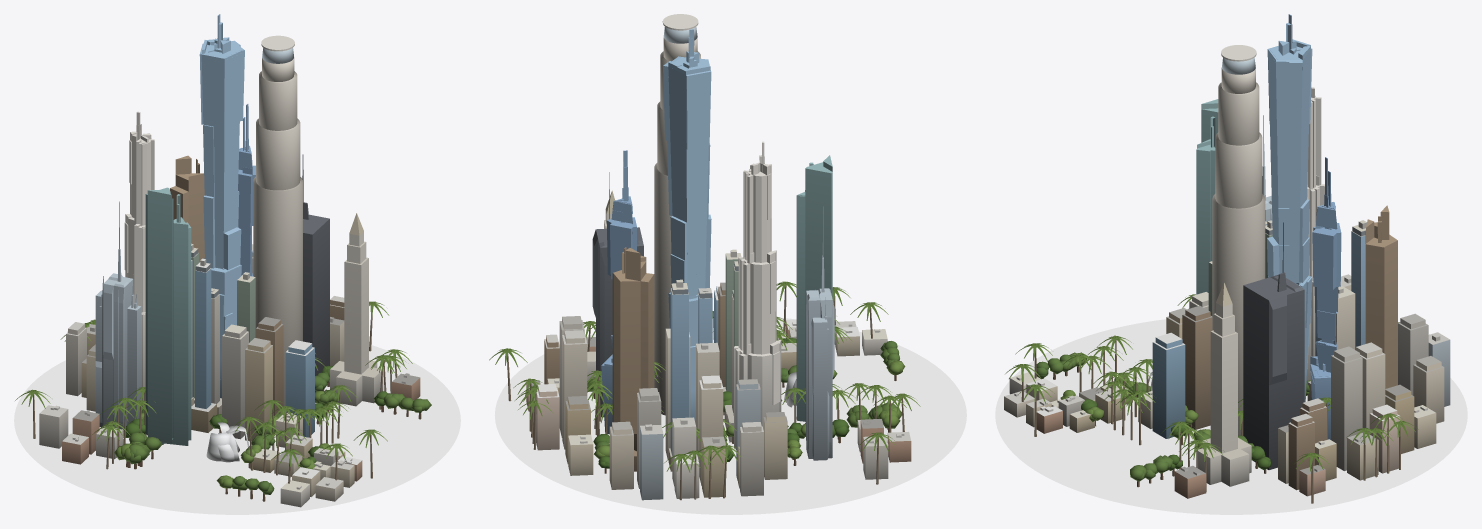
File: city_la.glb
3 renders of one model, left to right at view 1: azimuth 30°, elevation 25°; view 2: azimuth 150°, elevation 25°; view 3: azimuth 270°, elevation 25°, orthographic. The views are drawn at different scales.
Parts seen in each view (by area): view 1: city_la; view 2: city_la; view 3: city_la.
Part boxes in pixels (box(x1,y1,x2,y2)): city_la: box(14, 14, 460, 514); city_la: box(489, 14, 966, 514); city_la: box(995, 14, 1467, 514).
Bounding box in the file's own units: 11.1 × 10.5 × 11.1.
